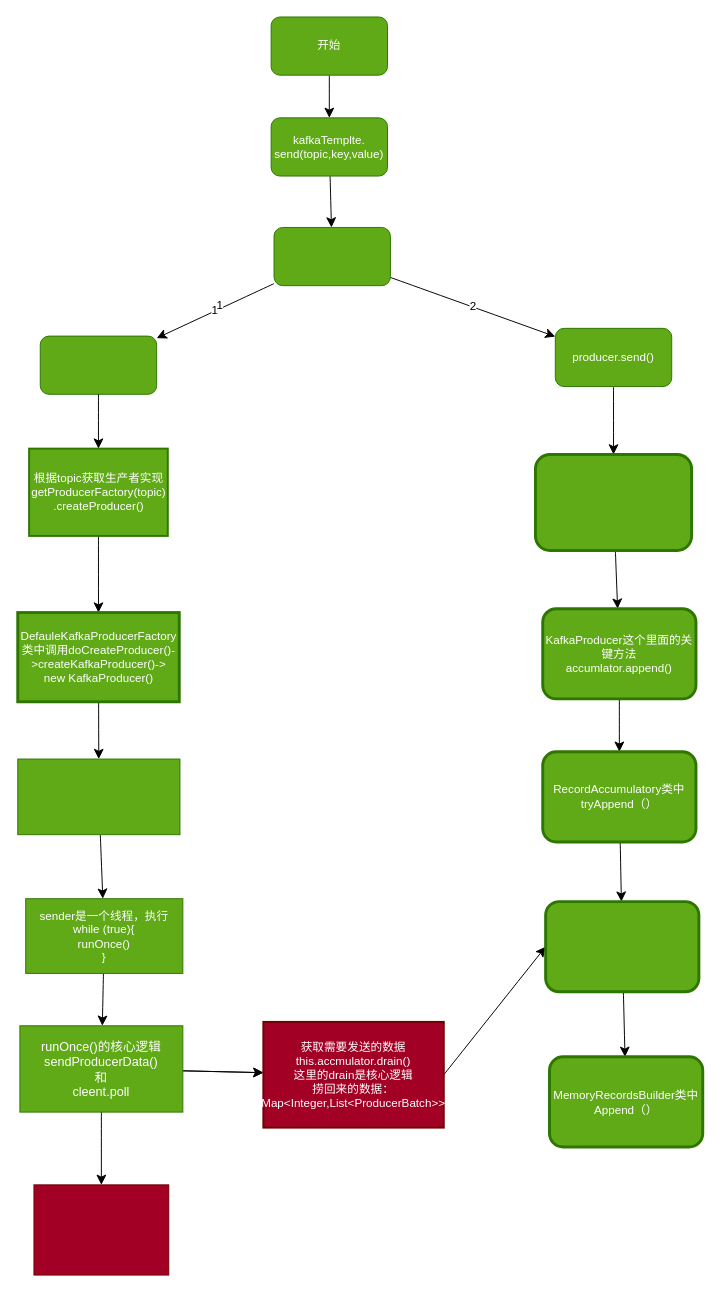
This 722x1292 diagram has some shape labels left out. Each missing label, with the centre of its shape:
doSend (producerRecord): the point at 331,256
getTheProducer (topic): the point at 98,364
kafkaProducer中 doSend(): the point at 613,502
ProducerBatch类中tryAppend（）: the point at 622,946
修改channel 执行结果 比如根据selector 修改发送或者接收结果: the point at 101,1229
当new kafkaProducer 会调用 newSender 最终会调用 new Sender(): the point at 98,796
